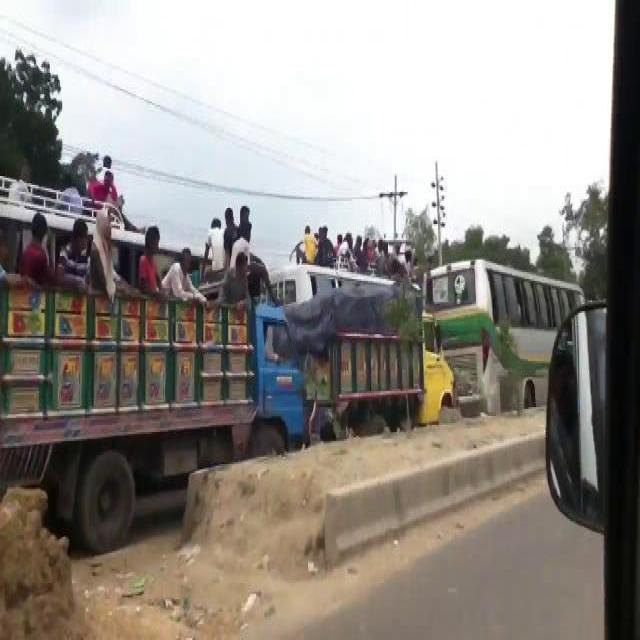18: (0, 256, 308, 555), (288, 292, 460, 452)
Truck: (415, 254, 583, 414)
